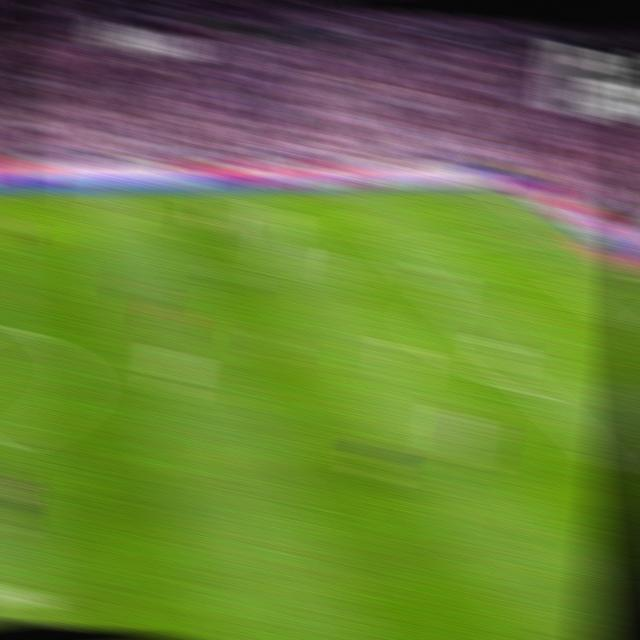bigarea_top_inner: (372, 234, 400, 253)
bigarea_top_outter: (547, 228, 575, 244)
bottom_arc_area_intersection: (520, 380, 553, 405)
corner: (477, 181, 508, 198)
smallarea_top_inner: (558, 279, 585, 295)
top_arc_area_intersection: (429, 291, 459, 313)
